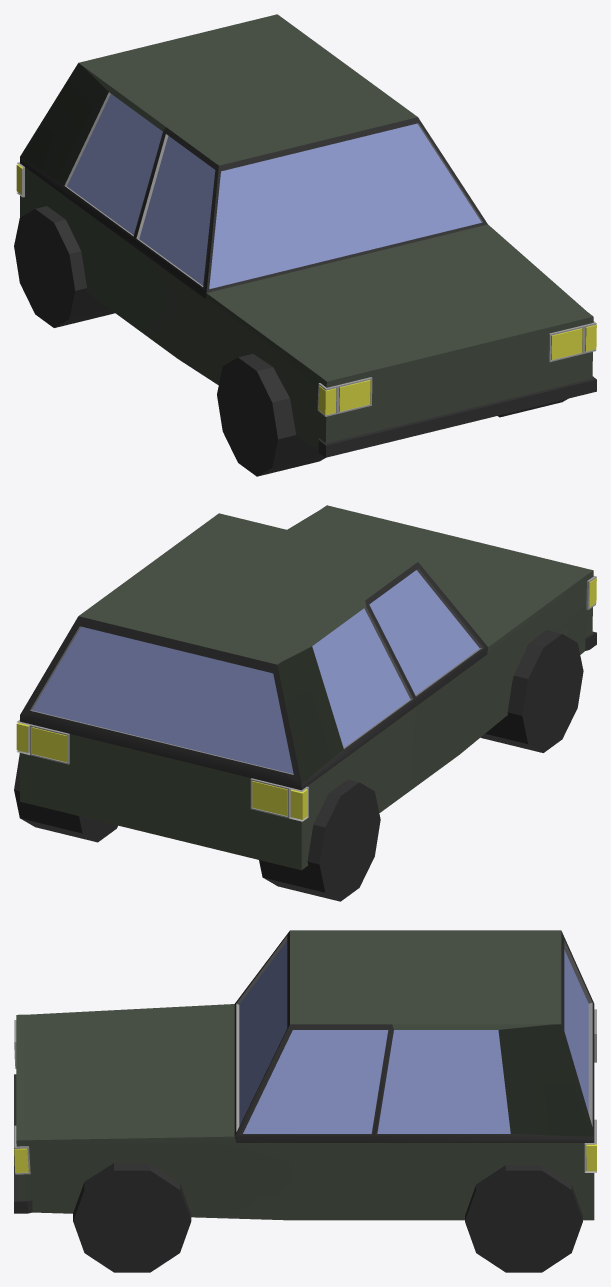
Rendered from Car_textured.fbx.
3 views of the same model, one above another, from view 1: azimuth 30°, elevation 25°; view 2: azimuth 150°, elevation 25°; view 3: azimuth 270°, elevation 25° (orthographic). The views are drawn at different scales.
Parts seen in each view (by area): view 1: Car5; view 2: Car5; view 3: Car5.
Part boxes in pixels (x1,y1,x2,y2): Car5: (14,14,596,476); Car5: (14,505,596,901); Car5: (14,930,596,1272).
Size of the model in its own units: 231 by 167 by 395.
